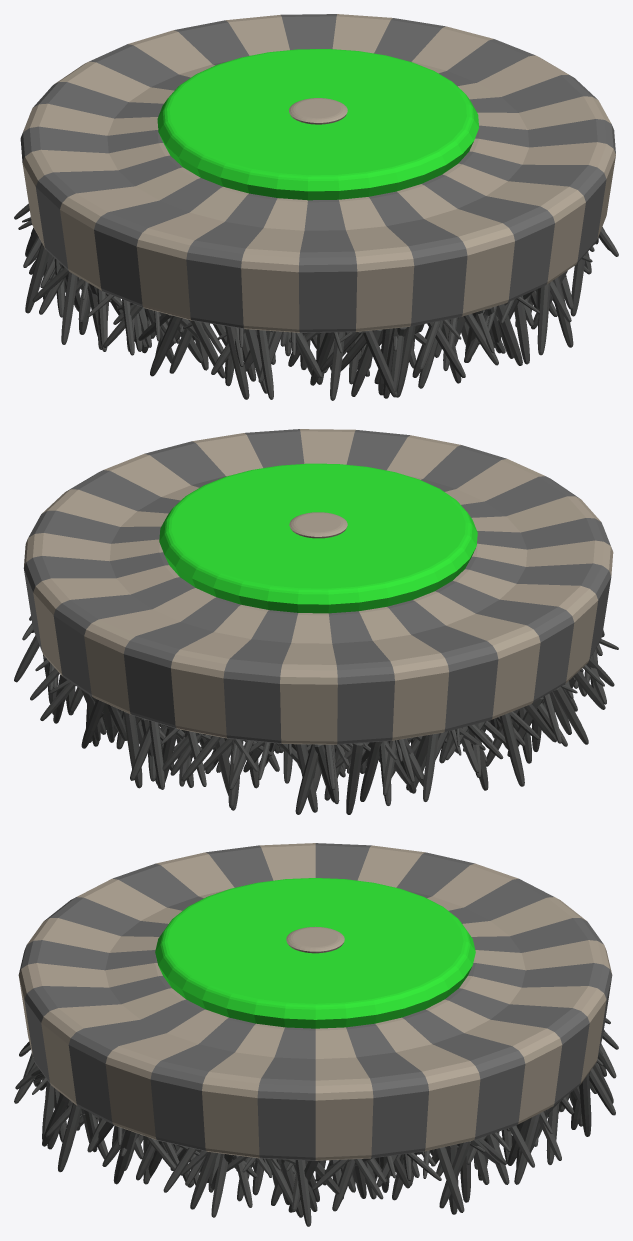
The model's file is Vacuum Cleaner.fbx.
The picture shows the model from 3 angles, top to bottom: view 1: azimuth 30°, elevation 25°; view 2: azimuth 150°, elevation 25°; view 3: azimuth 270°, elevation 25°; orthographic projection.
Visible parts, largest first — view 1: Cylinder, Cylinder.002|Cube.001|Dupli|608, Cylinder.002|Cube.001|Dupli|777, Cylinder.002|Cube.001|Dupli|572, Cylinder.002|Cube.001|Dupli|479, Cylinder.002|Cube.001|Dupli|323, Cylinder.002|Cube.001|Dupli|713, Cylinder.002|Cube.001|Dupli|1088, Cylinder.002|Cube.001|Dupli|851, Cylinder.002|Cube.001|Dupli|375, Cylinder.002|Cube.001|Dupli|847, Cylinder.002|Cube.001|Dupli|839 (+2 smaller); view 2: Cylinder, Cylinder.002|Cube.001|Dupli|572, Cylinder.002|Cube.001|Dupli|850, Cylinder.002|Cube.001|Dupli|1193, Cylinder.002|Cube.001|Dupli|434, Cylinder.002|Cube.001|Dupli|41, Cylinder.002|Cube.001|Dupli|551, Cylinder.002|Cube.001|Dupli|479, Cylinder.002|Cube.001|Dupli|485; view 3: Cylinder, Cylinder.002|Cube.001|Dupli|313, Cylinder.002|Cube.001|Dupli|960, Cylinder.002|Cube.001|Dupli|1173, Cylinder.002|Cube.001|Dupli|322, Cylinder.002|Cube.001|Dupli|57, Cylinder.002|Cube.001|Dupli|434, Cylinder.002|Cube.001|Dupli|1162, Cylinder.002|Cube.001|Dupli|1081, Cylinder.002|Cube.001|Dupli|717.
Boxes of the visible parts, bbox=[...] form: Cylinder: bbox=[20, 14, 615, 332]; Cylinder.002|Cube.001|Dupli|608: bbox=[537, 282, 550, 355]; Cylinder.002|Cube.001|Dupli|777: bbox=[363, 330, 397, 397]; Cylinder.002|Cube.001|Dupli|572: bbox=[25, 243, 49, 313]; Cylinder.002|Cube.001|Dupli|479: bbox=[61, 271, 77, 344]; Cylinder.002|Cube.001|Dupli|323: bbox=[225, 326, 249, 399]; Cylinder.002|Cube.001|Dupli|713: bbox=[150, 315, 182, 376]; Cylinder.002|Cube.001|Dupli|1088: bbox=[257, 330, 273, 399]; Cylinder.002|Cube.001|Dupli|851: bbox=[514, 296, 529, 364]; Cylinder.002|Cube.001|Dupli|375: bbox=[496, 304, 522, 365]; Cylinder.002|Cube.001|Dupli|847: bbox=[330, 332, 345, 400]; Cylinder.002|Cube.001|Dupli|839: bbox=[396, 325, 415, 397]; Cylinder: bbox=[23, 429, 613, 744]; Cylinder.002|Cube.001|Dupli|572: bbox=[500, 712, 524, 786]; Cylinder.002|Cube.001|Dupli|850: bbox=[346, 743, 363, 814]; Cylinder.002|Cube.001|Dupli|1193: bbox=[295, 744, 318, 814]; Cylinder.002|Cube.001|Dupli|434: bbox=[123, 711, 142, 788]; Cylinder.002|Cube.001|Dupli|41: bbox=[423, 733, 438, 801]; Cylinder.002|Cube.001|Dupli|551: bbox=[149, 720, 164, 789]; Cylinder.002|Cube.001|Dupli|479: bbox=[553, 686, 588, 744]; Cylinder.002|Cube.001|Dupli|485: bbox=[360, 741, 382, 801]; Cylinder: bbox=[18, 843, 612, 1160]; Cylinder.002|Cube.001|Dupli|313: bbox=[58, 1103, 81, 1172]; Cylinder.002|Cube.001|Dupli|960: bbox=[436, 1147, 464, 1212]; Cylinder.002|Cube.001|Dupli|1173: bbox=[514, 1113, 540, 1184]; Cylinder.002|Cube.001|Dupli|322: bbox=[295, 1160, 311, 1226]; Cylinder.002|Cube.001|Dupli|57: bbox=[190, 1152, 218, 1209]; Cylinder.002|Cube.001|Dupli|434: bbox=[579, 1073, 591, 1136]; Cylinder.002|Cube.001|Dupli|1162: bbox=[211, 1153, 228, 1217]; Cylinder.002|Cube.001|Dupli|1081: bbox=[439, 1141, 470, 1208]; Cylinder.002|Cube.001|Dupli|717: bbox=[113, 1129, 135, 1184].
Bounding box in the file's own units: 203 × 67.16 × 204.
